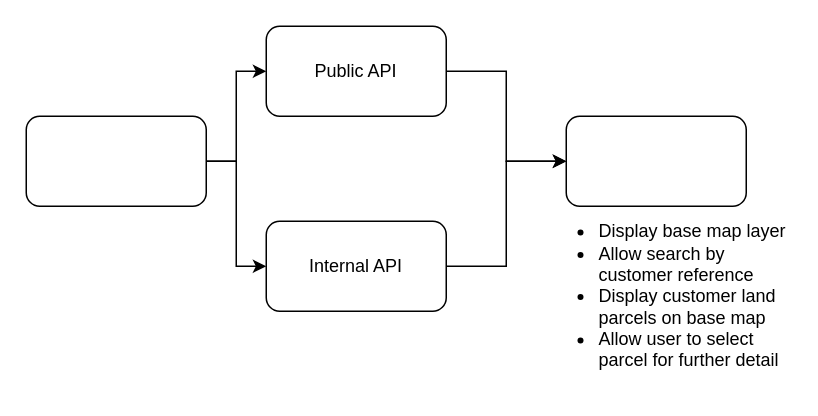
This 818x416 diagram has some shape labels left out. The centre of each missing label's shape, as x and y in pixels:
"Land Management System" belongs at pixel 115 160.
"SFI (Node.js)" belongs at pixel 655 160.
